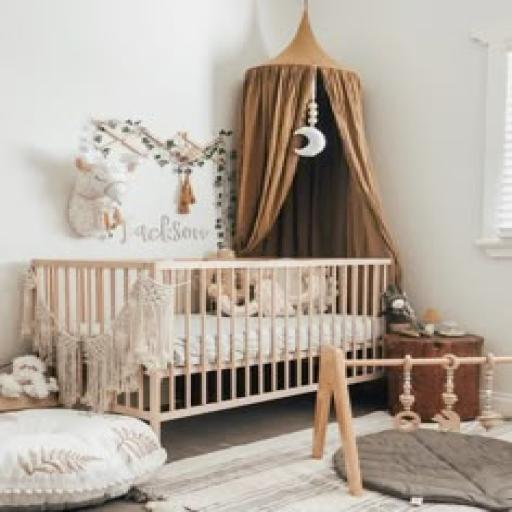crib: (29, 257, 392, 447)
